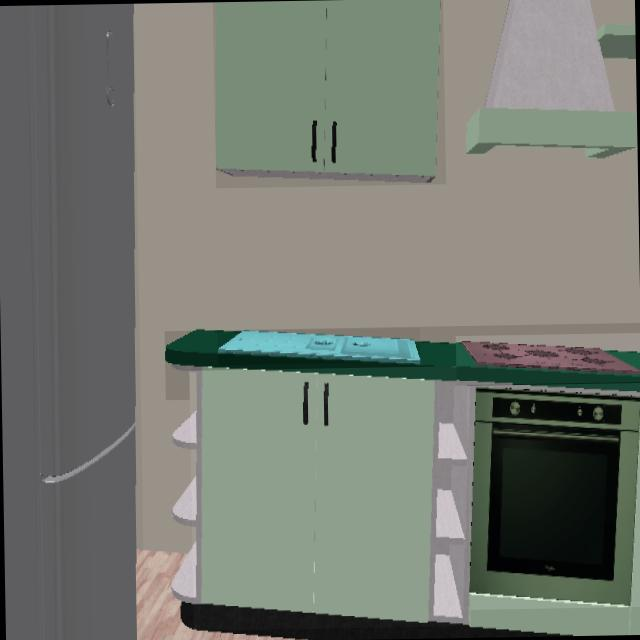cabinet: (192, 370, 470, 626), (215, 0, 442, 185)
countertop: (165, 330, 640, 392)
fridge: (0, 3, 137, 640)
oven: (470, 385, 640, 607)
sink: (218, 330, 420, 362)
stove: (455, 335, 640, 382)
